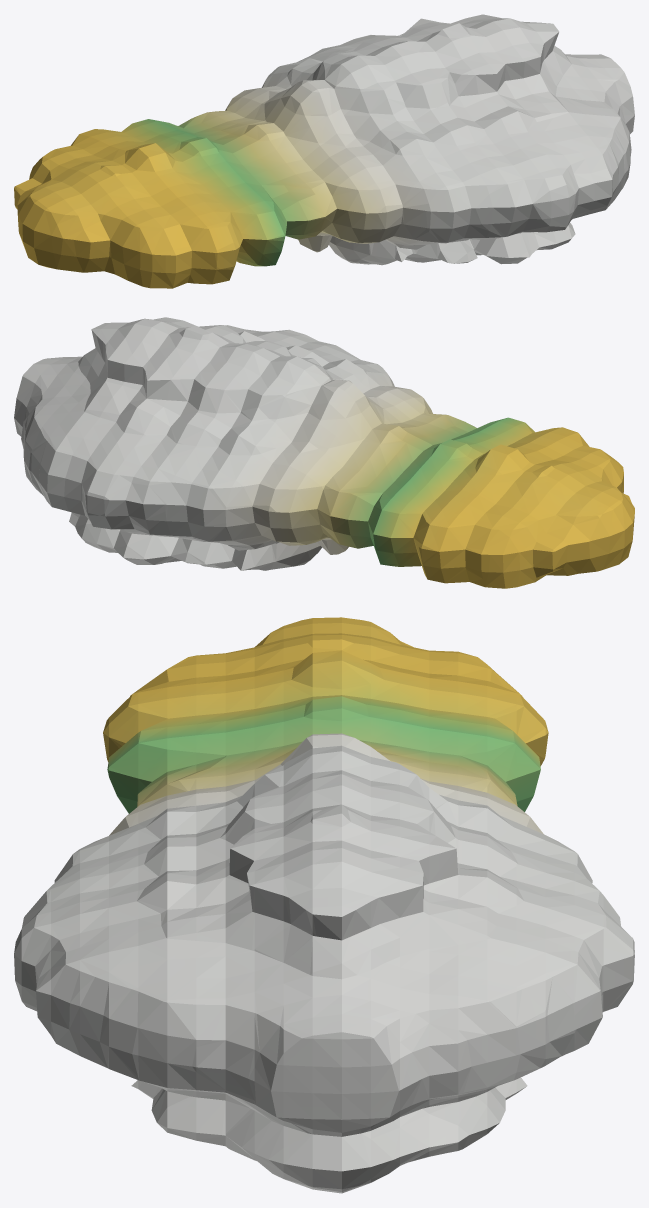
The picture shows the model from 3 angles, top to bottom: view 1: azimuth 30°, elevation 25°; view 2: azimuth 150°, elevation 25°; view 3: azimuth 270°, elevation 25°; orthographic projection. The views are drawn at different scales.
Parts seen in each view (by area): view 1: geometry_0; view 2: geometry_0; view 3: geometry_0.
Part boxes in pixels (x1,y1,x2,y2): geometry_0: (14, 14, 634, 288); geometry_0: (14, 317, 634, 588); geometry_0: (14, 617, 634, 1193).
Bounding box in the file's own units: 1.5 × 0.5398 × 0.9081.
